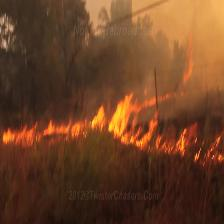fire: (0, 88, 224, 169)
